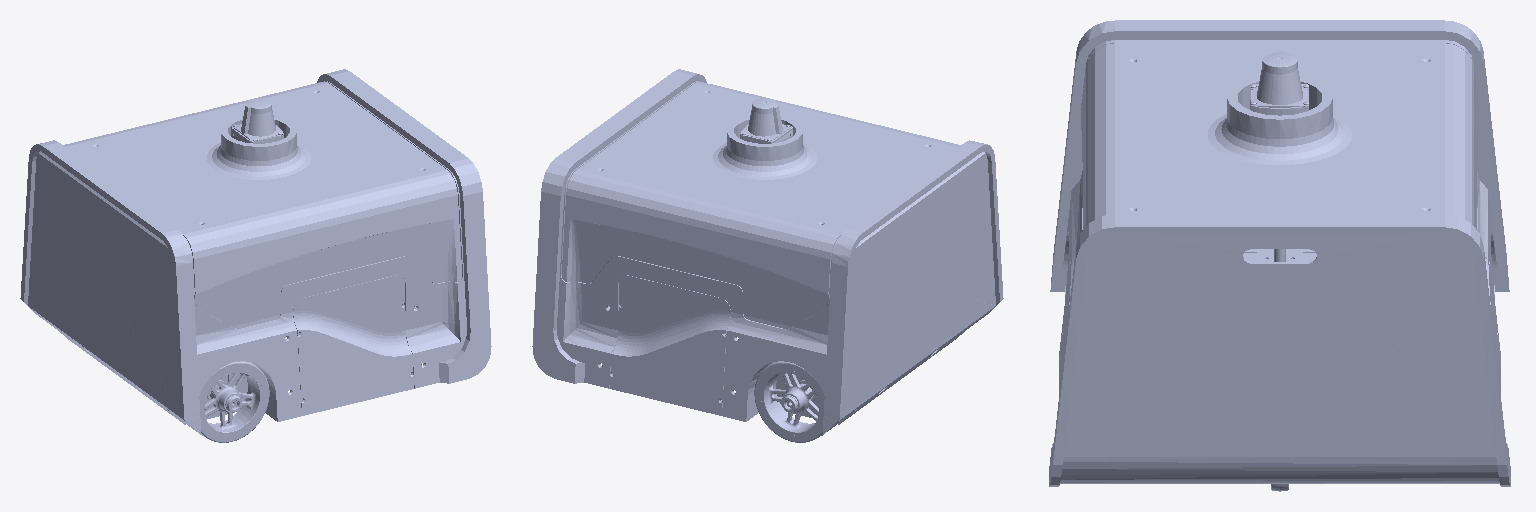
robot.urdf — fumi_description:
<?xml version="1.0" encoding="utf-8"?>
<!-- This URDF was automatically created by SolidWorks to URDF Exporter! Originally created by [author] ([email redacted]) 
     Commit Version: 1.6.0-4-g7f85cfe  Build Version: 1.6.7995.38578
     For more information, please see http://wiki.ros.org/sw_urdf_exporter -->
<robot
  name="fumi_description">
  <link
    name="base_link">
    <inertial>
      <origin
        xyz="0.127151836912334 -1.69137146294185E-06 0.0975928139368248"
        rpy="0 0 0" />
      <mass
        value="9.66682821677267" />
      <inertia
        ixx="0.126365358178264"
        ixy="1.45001745218774E-06"
        ixz="-0.00587780021659437"
        iyy="0.214301988325745"
        iyz="-3.03715685642234E-06"
        izz="0.271689019304598" />
    </inertial>
    <visual>
      <origin
        xyz="0 0 0"
        rpy="0 0 0" />
      <geometry>
        <mesh
          filename="package://fumi_description/meshes/base_link.STL" />
      </geometry>
      <material
        name="">
        <color
          rgba="0.792156862745098 0.819607843137255 0.933333333333333 1" />
      </material>
    </visual>
    <collision>
      <origin
        xyz="0 0 0"
        rpy="0 0 0" />
      <geometry>
        <mesh
          filename="package://fumi_description/meshes/base_link.STL" />
      </geometry>
    </collision>
  </link>
  <link
    name="laser">
    <inertial>
      <origin
        xyz="-0.00179762627775883 -1.00146367219001E-05 -0.0259294227638412"
        rpy="0 0 0" />
      <mass
        value="0.208749189617539" />
      <inertia
        ixx="0.000140549260165937"
        ixy="2.33101300183652E-08"
        ixz="2.55929309361593E-06"
        iyy="0.000137324824215784"
        iyz="-3.02344969732135E-08"
        izz="9.27932563448145E-05" />
    </inertial>
    <visual>
      <origin
        xyz="0 0 0"
        rpy="0 0 0" />
      <geometry>
        <mesh
          filename="package://fumi_description/meshes/laser.STL" />
      </geometry>
      <material
        name="">
        <color
          rgba="0.792156862745098 0.819607843137255 0.933333333333333 1" />
      </material>
    </visual>
    <collision>
      <origin
        xyz="0 0 0"
        rpy="0 0 0" />
      <geometry>
        <mesh
          filename="package://fumi_description/meshes/laser.STL" />
      </geometry>
    </collision>
  </link>
  <joint
    name="fixed_1"
    type="fixed">
    <origin
      xyz="0.16555 -3.2607E-05 0.31707"
      rpy="0 0 0" />
    <parent
      link="base_link" />
    <child
      link="laser" />
    <axis
      xyz="0 0 0" />
    <limit
      lower="0"
      upper="0"
      effort="0"
      velocity="0" />
  </joint>
  <link
    name="camera_link">
    <inertial>
      <origin
        xyz="-0.0131722267740443 -0.00168231615133116 -7.05917314882121E-05"
        rpy="0 0 0" />
      <mass
        value="0.0381911718464115" />
      <inertia
        ixx="2.35737137420088E-05"
        ixy="-4.5104419786091E-08"
        ixz="1.4323143025451E-08"
        iyy="2.11168812559004E-06"
        iyz="-8.06854477497741E-09"
        izz="2.22571349730384E-05" />
    </inertial>
    <visual>
      <origin
        xyz="0 0 0"
        rpy="0 0 0" />
      <geometry>
        <mesh
          filename="package://fumi_description/meshes/camera_link.STL" />
      </geometry>
      <material
        name="">
        <color
          rgba="0.792156862745098 0.819607843137255 0.933333333333333 1" />
      </material>
    </visual>
    <collision>
      <origin
        xyz="0 0 0"
        rpy="0 0 0" />
      <geometry>
        <mesh
          filename="package://fumi_description/meshes/camera_link.STL" />
      </geometry>
    </collision>
  </link>
  <joint
    name="fixed_2"
    type="fixed">
    <origin
      xyz="0.42761 -0.0025714 0.23159"
      rpy="0 0 0" />
    <parent
      link="base_link" />
    <child
      link="camera_link" />
    <axis
      xyz="0 0 0" />
    <limit
      lower="0"
      upper="0"
      effort="0"
      velocity="0" />
  </joint>
  <link
    name="vectornav">
    <inertial>
      <origin
        xyz="-0.00106813604685474 8.71594019180577E-10 -0.0124548303738239"
        rpy="0 0 0" />
      <mass
        value="0.0384276977819966" />
      <inertia
        ixx="5.98543550052429E-06"
        ixy="2.00606574762456E-13"
        ixz="8.71743857203315E-09"
        iyy="7.6161186938241E-06"
        iyz="-4.83109514948167E-14"
        izz="9.82757079162358E-06" />
    </inertial>
    <visual>
      <origin
        xyz="0 0 0"
        rpy="0 0 0" />
      <geometry>
        <mesh
          filename="package://fumi_description/meshes/vectornav.STL" />
      </geometry>
      <material
        name="">
        <color
          rgba="0.792156862745098 0.819607843137255 0.933333333333333 1" />
      </material>
    </visual>
    <collision>
      <origin
        xyz="0 0 0"
        rpy="0 0 0" />
      <geometry>
        <mesh
          filename="package://fumi_description/meshes/vectornav.STL" />
      </geometry>
    </collision>
  </link>
  <joint
    name="fixed_3"
    type="fixed">
    <origin
      xyz="-5.32524992339356E-05 0 0.0534999734969217"
      rpy="0 0 0" />
    <parent
      link="base_link" />
    <child
      link="vectornav" />
    <axis
      xyz="0 0 0" />
  </joint>
</robot>

--- Render facts (derived) ---
3 views of the same robot in one strip: view 1: azimuth 30°, elevation 25°; view 2: azimuth 150°, elevation 25°; view 3: azimuth 270°, elevation 25° (orthographic).
Model fumi_description with 4 links and 3 joints (3 fixed), rooted at base_link, posed all joints at 0.
Links seen in each view (by area): view 1: base_link, laser; view 2: base_link, laser; view 3: base_link, laser.
Link boxes in pixels (bbox=[...]): base_link: bbox=[20, 69, 491, 442]; laser: bbox=[231, 98, 283, 143]; base_link: bbox=[532, 69, 1003, 442]; laser: bbox=[740, 98, 792, 143]; base_link: bbox=[1049, 20, 1510, 491]; laser: bbox=[1250, 52, 1308, 115].
Size in the robot's own frame: 0.5011 by 0.4721 by 0.4068 metres.
3 mesh visuals loaded from 4 distinct referenced files (3 binary STL); not drawn: 1 (reference not matched to a file when rendering).
